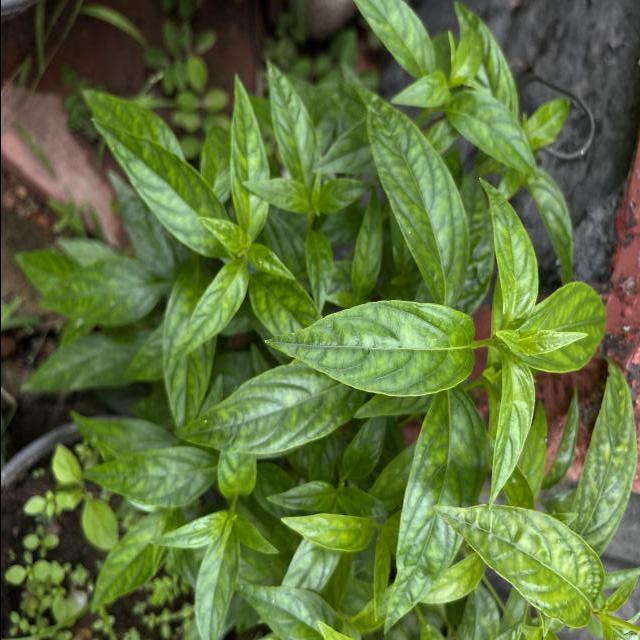Andrographis paniculata: (378, 391, 489, 636), (360, 87, 472, 309), (432, 499, 604, 631), (261, 298, 478, 400), (89, 115, 230, 261), (173, 362, 360, 459), (572, 357, 638, 558), (475, 174, 540, 332), (514, 279, 610, 376), (81, 442, 214, 512), (442, 90, 540, 180), (170, 259, 250, 364), (486, 350, 536, 512), (227, 70, 272, 240), (262, 55, 320, 185), (232, 581, 345, 640), (192, 519, 242, 640), (276, 508, 377, 555)
